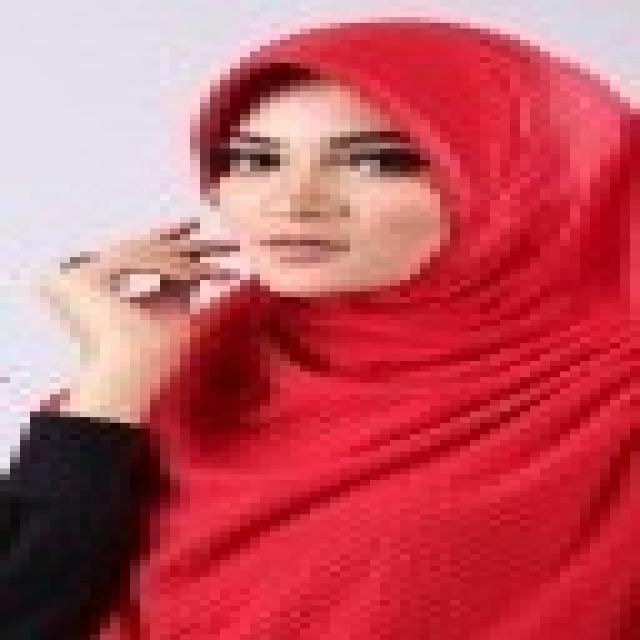head: (182, 18, 636, 309)
